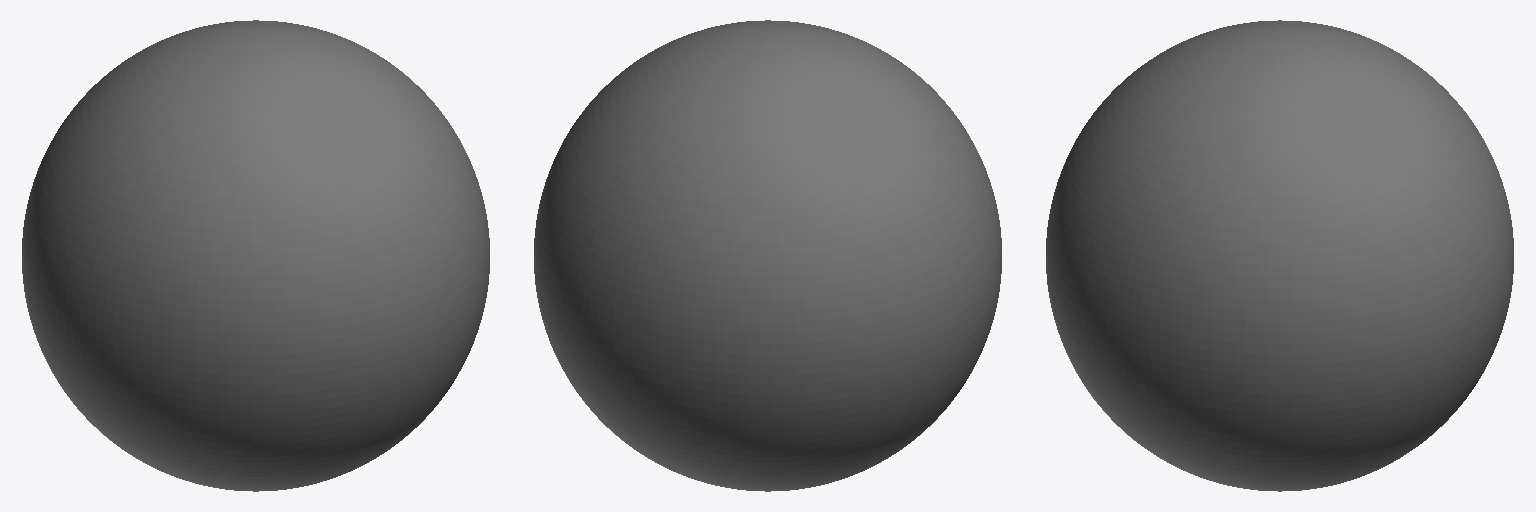
URDF robot description (ball_drop_z_1-0):
<?xml version="1.0"?>
<robot name="ball_drop_z_1-0">
  <link name="base">
    <visual>
      <geometry>
        <mesh filename="ball_drop_z_1-0.obj" scale="1 1 1"/>
      </geometry>
      <material name="gray">
        <color rgba="0.5 0.5 0.5 1.0"/>
      </material>
    </visual>
    <collision>
      <geometry>
        <mesh filename="ball_drop_z_1-0.obj" scale="1 1 1"/>
      </geometry>
    </collision>
    <inertial>
      <mass value="1.000"/>
      <inertia
          ixx="0.026264" ixy="0.000000" ixz="0.000000"
          iyy="0.026264" iyz="0.000000"
          izz="0.025990"/>
      <origin xyz="0.000000 0.000000 1.000000" rpy="0 0 0"/>
    </inertial>
  </link>
</robot>

--- What the picture shows (computed from the rendered views, not written in the file) ---
3 views of the same robot in one strip: view 1: azimuth 30°, elevation 25°; view 2: azimuth 150°, elevation 25°; view 3: azimuth 270°, elevation 25° (orthographic).
Model ball_drop_z_1-0 with 1 links and 0 joints (none), rooted at base, posed all joints at 0.
Visible links, largest first — view 1: base; view 2: base; view 3: base.
Boxes of the visible links, <box> form: base: <box>22,20,489,491</box>; base: <box>534,20,1001,491</box>; base: <box>1046,20,1513,491</box>.
Size in the robot's own frame: 0.3949 by 0.3949 by 0.399 metres.
Meshes: 1 distinct files referenced, 1 mesh visuals loaded (1 OBJ).
